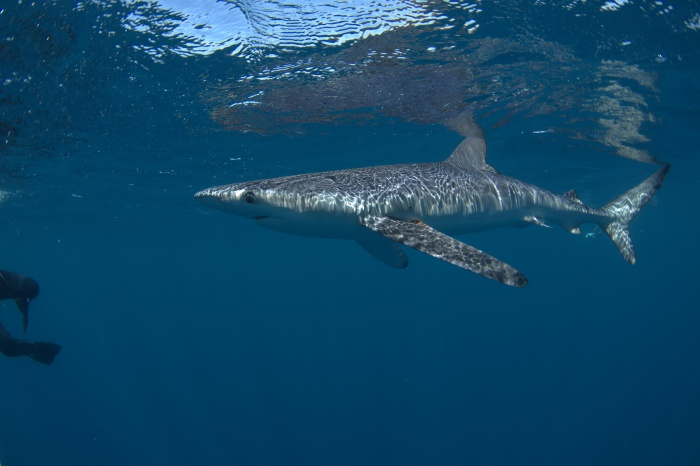Azul: (188, 128, 674, 296)
